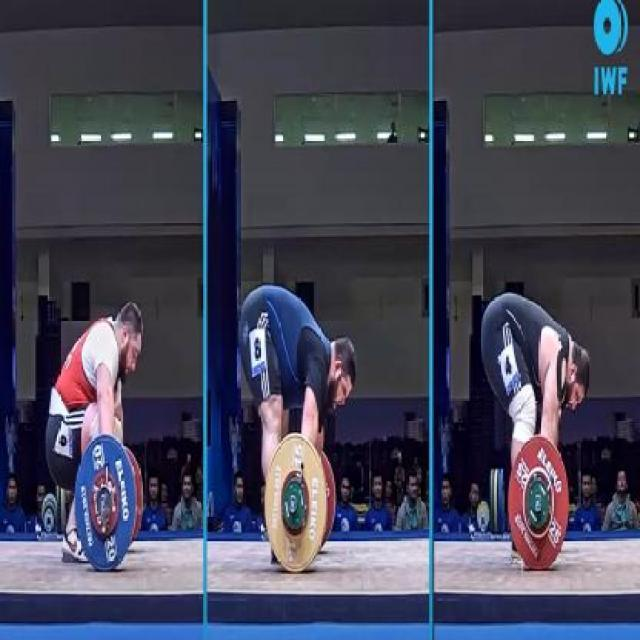Barbell: (286, 489, 302, 520), (530, 488, 544, 518), (99, 493, 108, 516)
